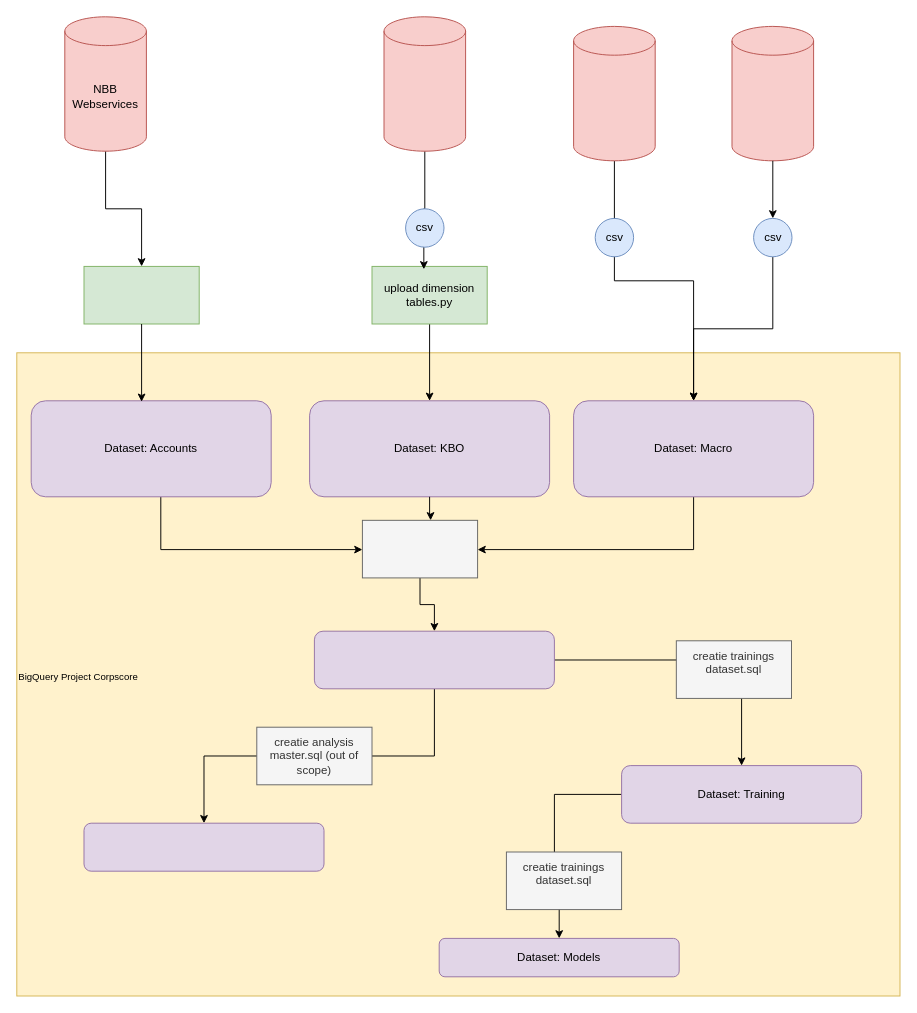
The diagram is 917 pixels wide and 1013 high, and some of its shapes have lost their labels. Here are the shapes that lost their labels. From the top down, the centre of each, then its label:
At point 424,83: "KBO Open Data".
At point 614,93: "Statbel".
At point 772,93: "ECB Data Portal".
At point 141,294: "Process and upload.py".
At point 419,548: "creatie staging table.sql".
At point 433,659: "Dataset: Staging".
At point 203,846: "Dataset: Analysis".
